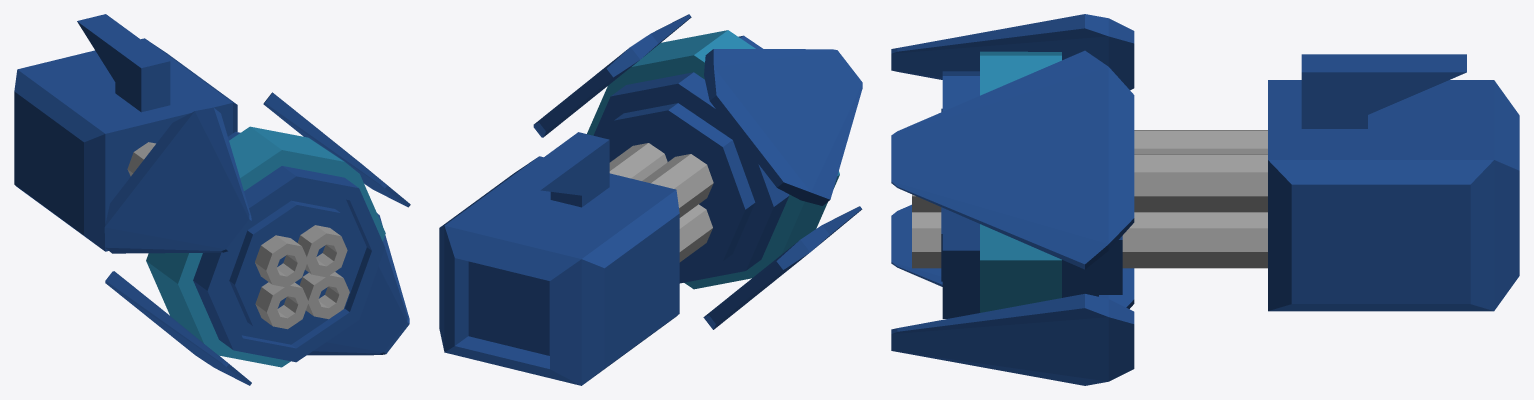
The model's file is lightning_gun.fbx.
3 renders of one model, left to right at view 1: azimuth 30°, elevation 25°; view 2: azimuth 150°, elevation 25°; view 3: azimuth 270°, elevation 25°, orthographic. The views are drawn at different scales.
Parts seen in each view (by area): view 1: Lightning Gn; view 2: Lightning Gn; view 3: Lightning Gn.
Boxes of the visible parts, left/top/right/bottom form: Lightning Gn: left=14, top=14, right=410, bottom=385; Lightning Gn: left=439, top=14, right=862, bottom=385; Lightning Gn: left=891, top=14, right=1519, bottom=385.
Size of the model in its own units: 310 by 282 by 477.
